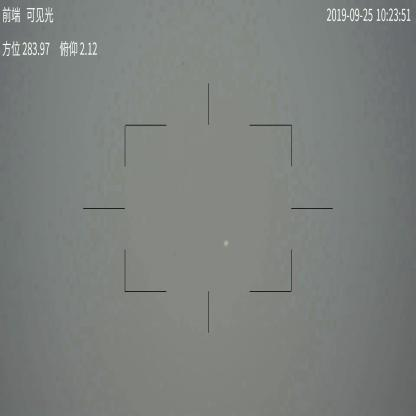uav: (223, 238, 230, 247)
